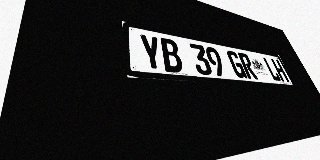3: (189, 43, 213, 76)
9: (204, 46, 227, 77)
B: (158, 37, 184, 73)
G: (226, 50, 248, 78)
H: (270, 58, 290, 82)
L: (262, 57, 282, 81)
R: (237, 52, 258, 79)
Y: (138, 33, 165, 71)
